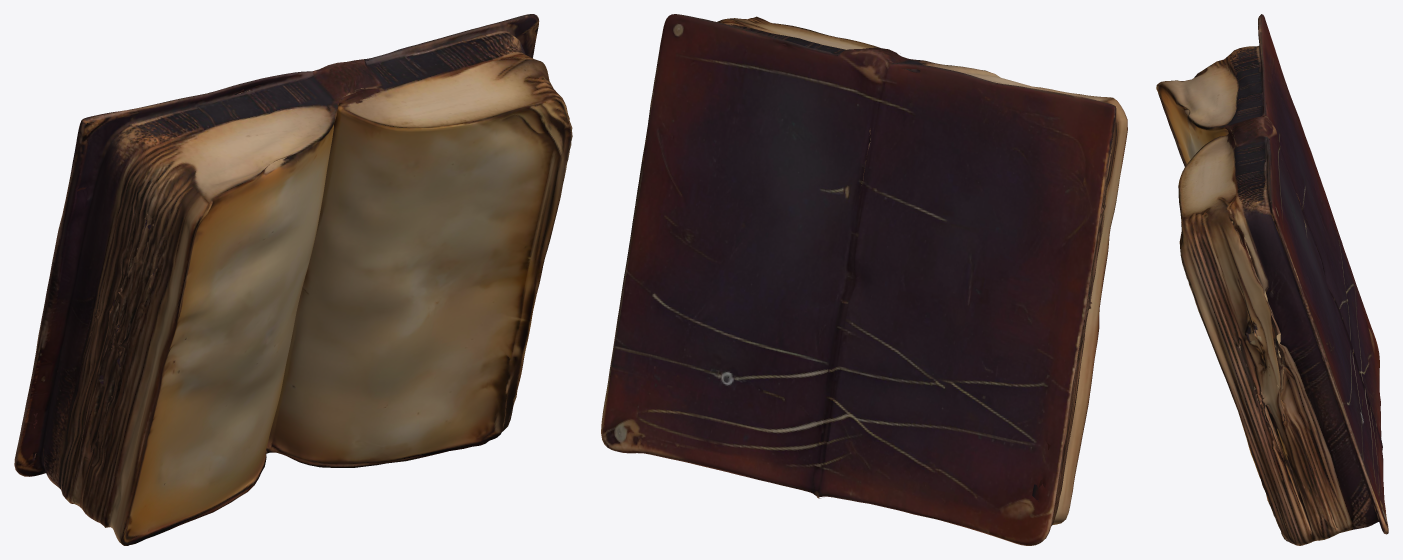
The model's file is bossbook.fbx.
3 views of the same model, side by side, from view 1: azimuth 30°, elevation 25°; view 2: azimuth 150°, elevation 25°; view 3: azimuth 270°, elevation 25° (orthographic). The views are drawn at different scales.
Visible parts, largest first — view 1: bossbook; view 2: bossbook; view 3: bossbook.
Boxes of the visible parts, box(x1,y1,x2,y2) form: bossbook: box(14, 14, 572, 545); bossbook: box(601, 14, 1127, 545); bossbook: box(1156, 14, 1388, 545).
Bounding box in the file's own units: 153 × 140 × 80.25.
1 material, 1 textured.
